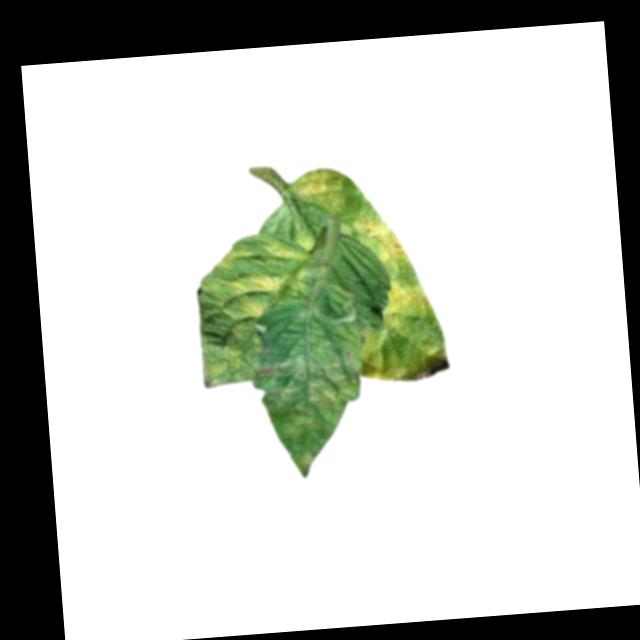Leaf_Mold: (248, 350, 362, 479), (214, 235, 305, 319), (351, 329, 451, 386), (356, 212, 413, 277), (373, 279, 435, 334), (293, 164, 347, 219)
